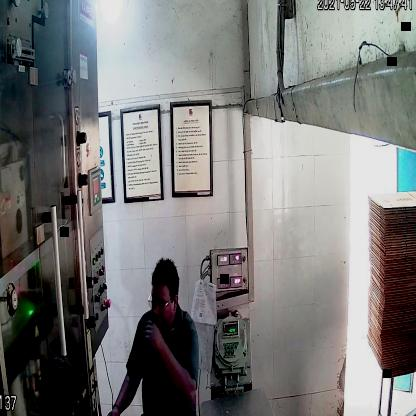goggles: (146, 293, 176, 314)
